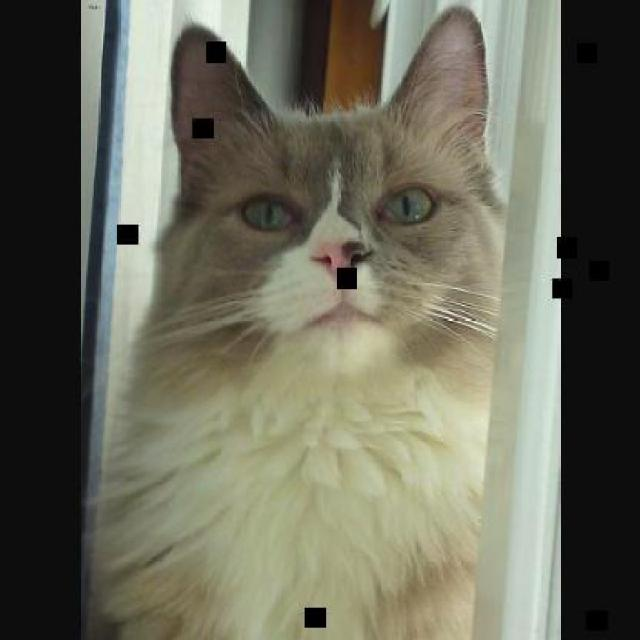unauthorized: (82, 4, 506, 638)
